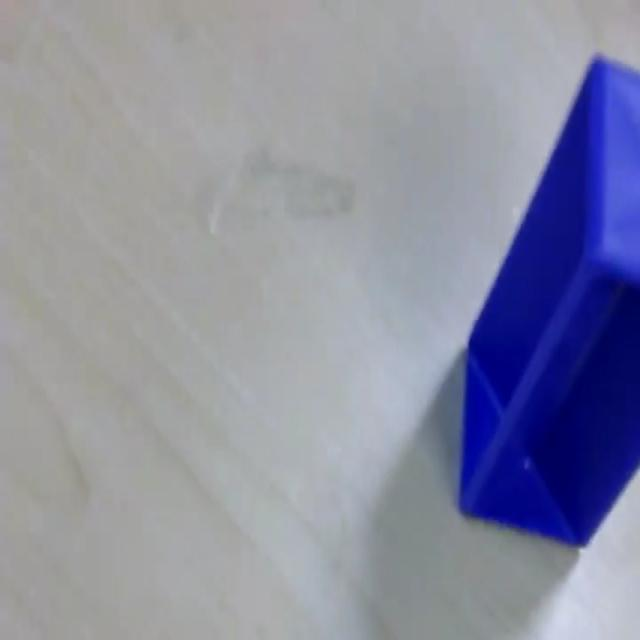blue_block: (456, 49, 639, 548)
